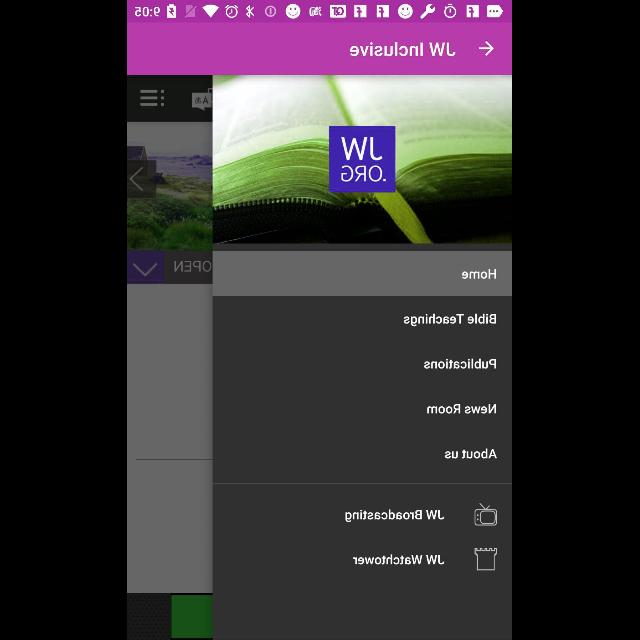icon: (479, 42, 495, 56)
image: (213, 76, 512, 242), (330, 126, 396, 192), (474, 504, 498, 526), (474, 548, 498, 570)
panel: (213, 76, 512, 640)
text: (350, 41, 456, 57), (404, 313, 498, 327), (346, 510, 446, 522), (354, 555, 444, 565), (424, 358, 498, 370), (427, 404, 497, 414), (444, 448, 498, 459), (462, 268, 498, 280)
toolbar: (128, 23, 512, 75)
uppertaskbar: (128, 1, 512, 23)
